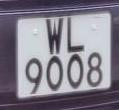0: (43, 53, 67, 95), (65, 52, 86, 93)
8: (84, 49, 106, 91)
9: (23, 54, 46, 98)
L: (65, 14, 90, 56)
W: (42, 14, 67, 57)
